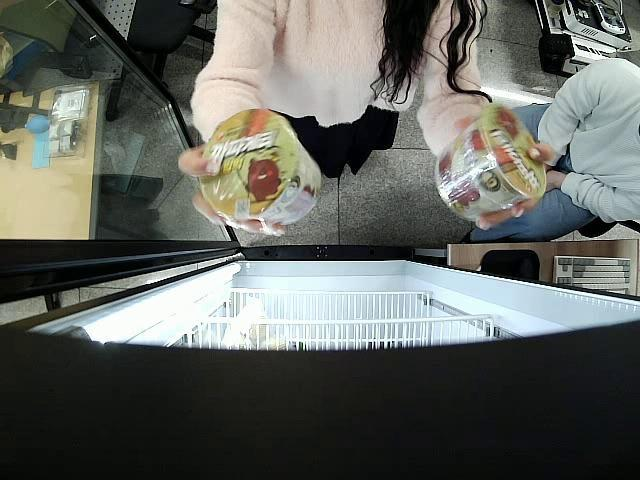04_chapagetti_S: (198, 109, 322, 228), (434, 100, 546, 220)
